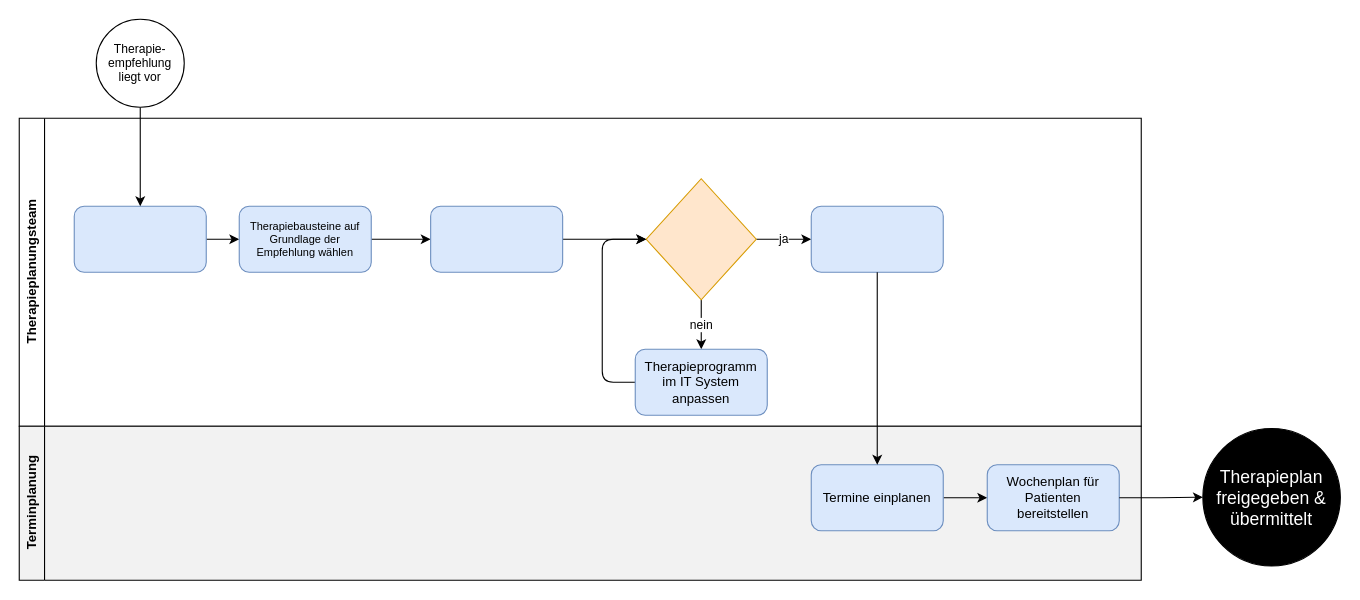
Image size: 1360x600. Some labels were removed from this diagram. Here are the shapes that lost their labels. From the top down, the box of each, then its label:
(73, 205, 206, 272): Fallunterlagen aus dem IT System abrufen und prüfen
(430, 205, 563, 272): Therapieprogramm im IT System erfassen
(645, 178, 756, 300): benötigte Ressourcen sind vorhanden
(810, 205, 943, 272): Therapieprogramm freigeben
